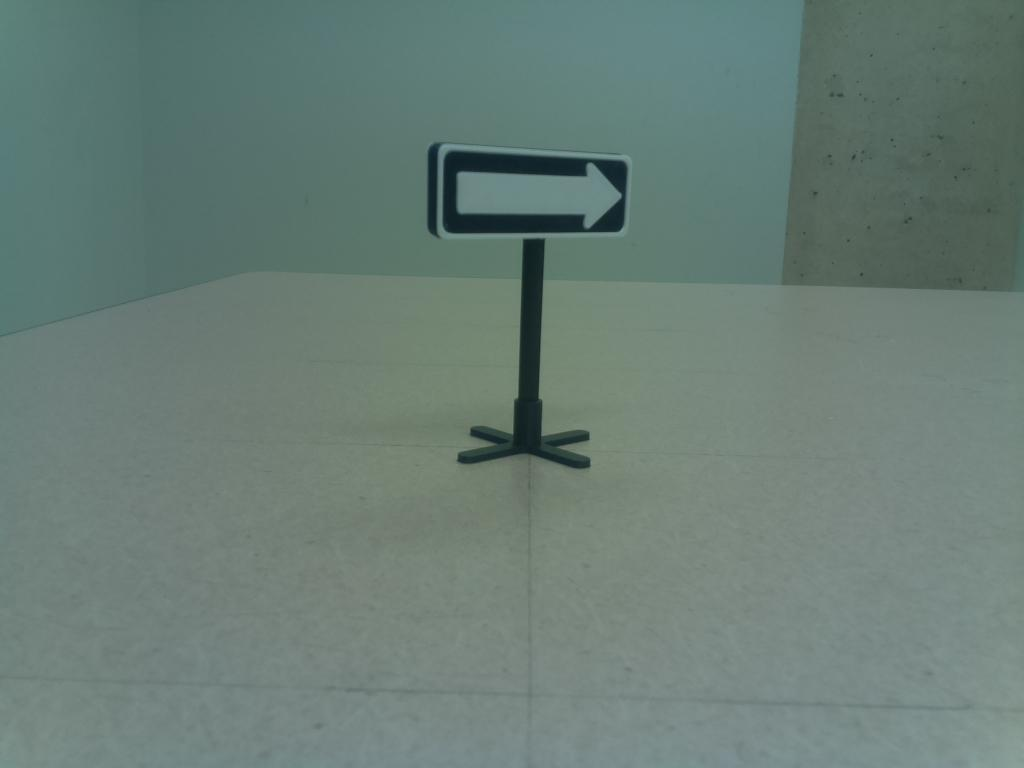sign_oneway_right: (423, 138, 637, 249)
